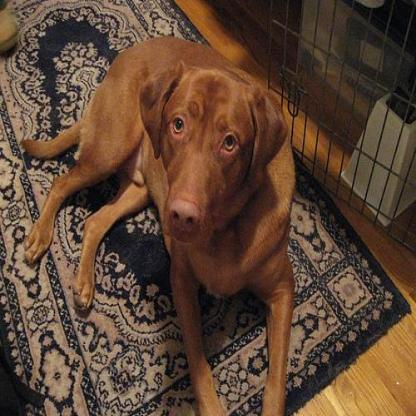vizsla: (21, 38, 296, 414)
